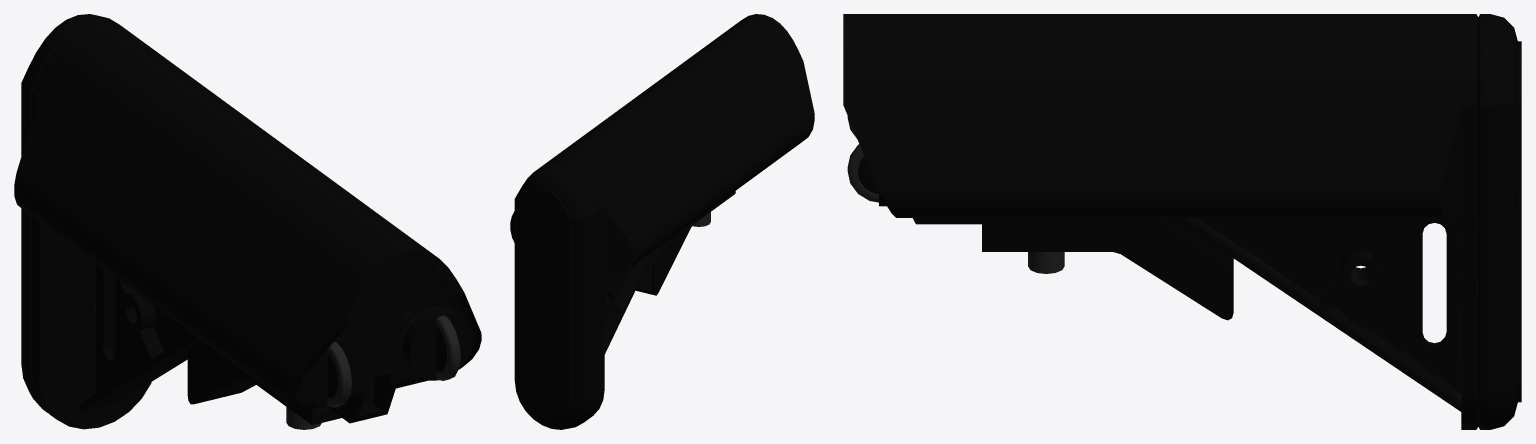
The model's file is M4_StockBack.fbx.
3 renders of one model, left to right at view 1: azimuth 30°, elevation 25°; view 2: azimuth 150°, elevation 25°; view 3: azimuth 270°, elevation 25°, orthographic. The views are drawn at different scales.
Parts seen in each view (by area): view 1: BaseStockBack; view 2: BaseStockBack; view 3: BaseStockBack.
Boxes of the visible parts, box(x1,y1,x2,y2) form: BaseStockBack: box(14, 14, 481, 429); BaseStockBack: box(510, 14, 814, 429); BaseStockBack: box(843, 14, 1521, 429).
Bounding box in the file's own units: 6.17 × 12.36 × 18.73.
Materials: 1 (1 with a texture image).
